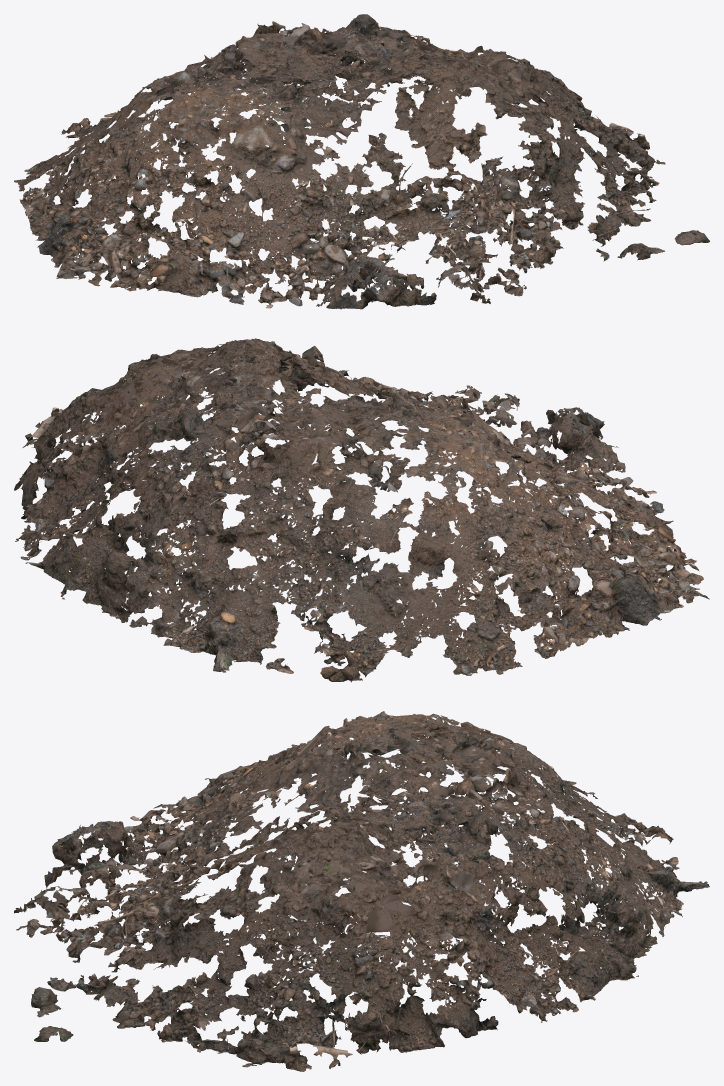
The model's file is dirt_mound.glb.
3 renders of one model, top to bottom at view 1: azimuth 30°, elevation 25°; view 2: azimuth 150°, elevation 25°; view 3: azimuth 270°, elevation 25°, orthographic. The views are drawn at different scales.
Visible parts, largest first — view 1: Model; view 2: Model; view 3: Model.
Boxes of the visible parts, <box> form: Model: <box>14,14,709,309</box>; Model: <box>14,338,709,682</box>; Model: <box>14,711,709,1071</box>.
Size of the model in its own units: 19.93 by 4.13 by 17.91.
Materials: 2 (2 with a texture image).
